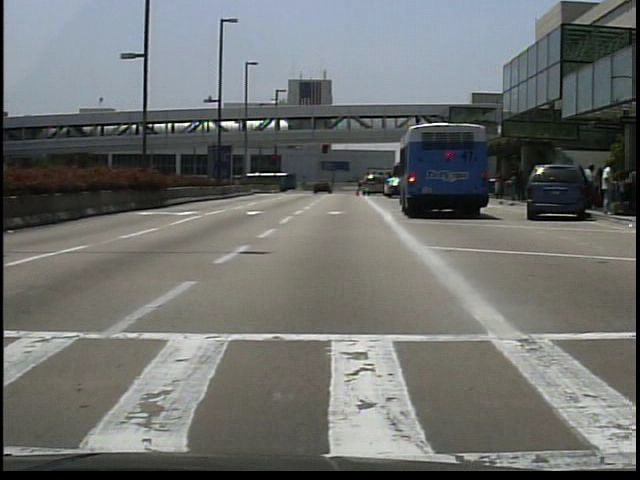person: (597, 162, 618, 218), (584, 164, 600, 211), (595, 166, 610, 213), (516, 168, 528, 203), (315, 182, 324, 197)
